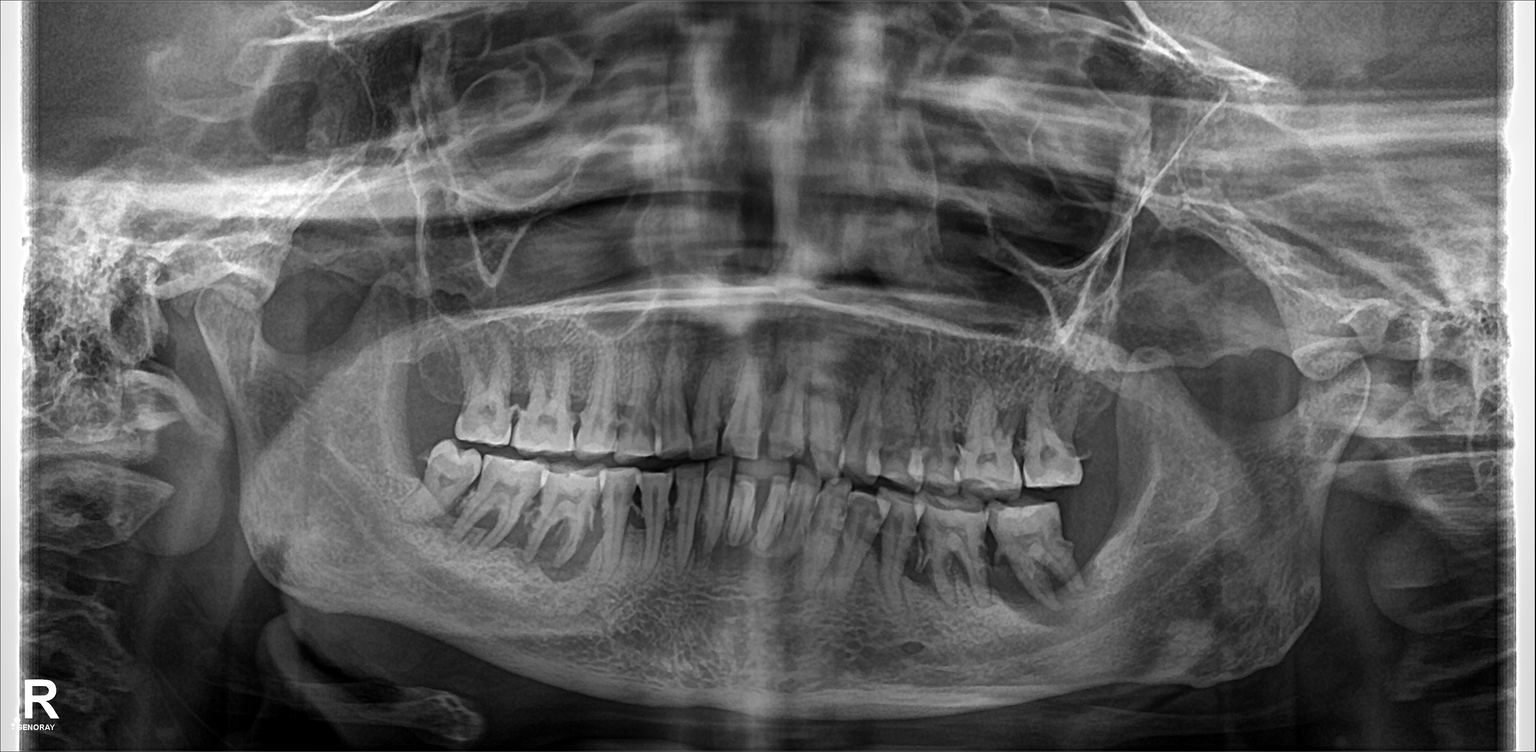Missing Tooth: (1065, 380, 1113, 465), (410, 348, 460, 426), (1075, 497, 1113, 566)
Periapical Lesion: (544, 516, 608, 587)
